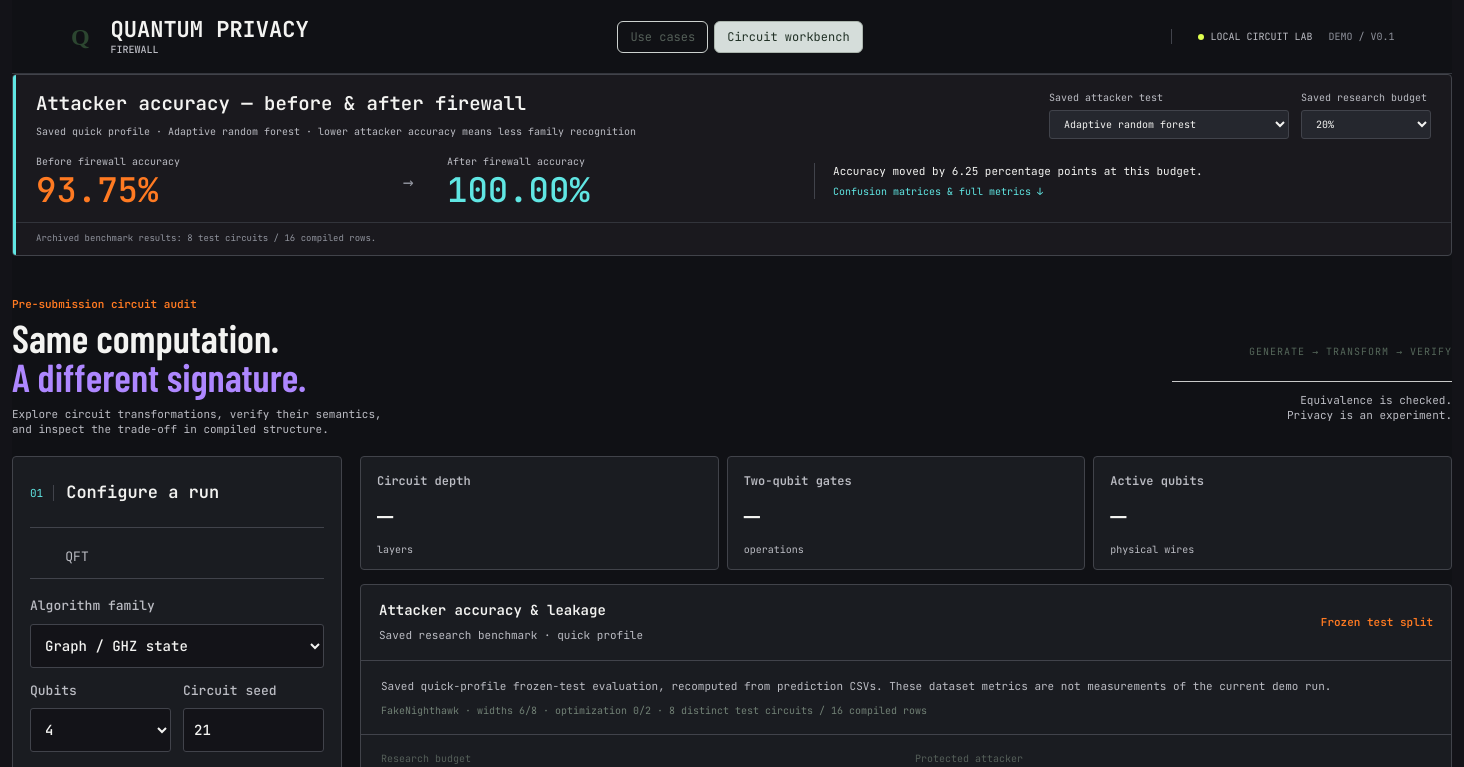
full frontend workflow › switches the circuit family from a demo preset
Click the button "QFT".
click(77, 559)  # box [30,540,124,578]
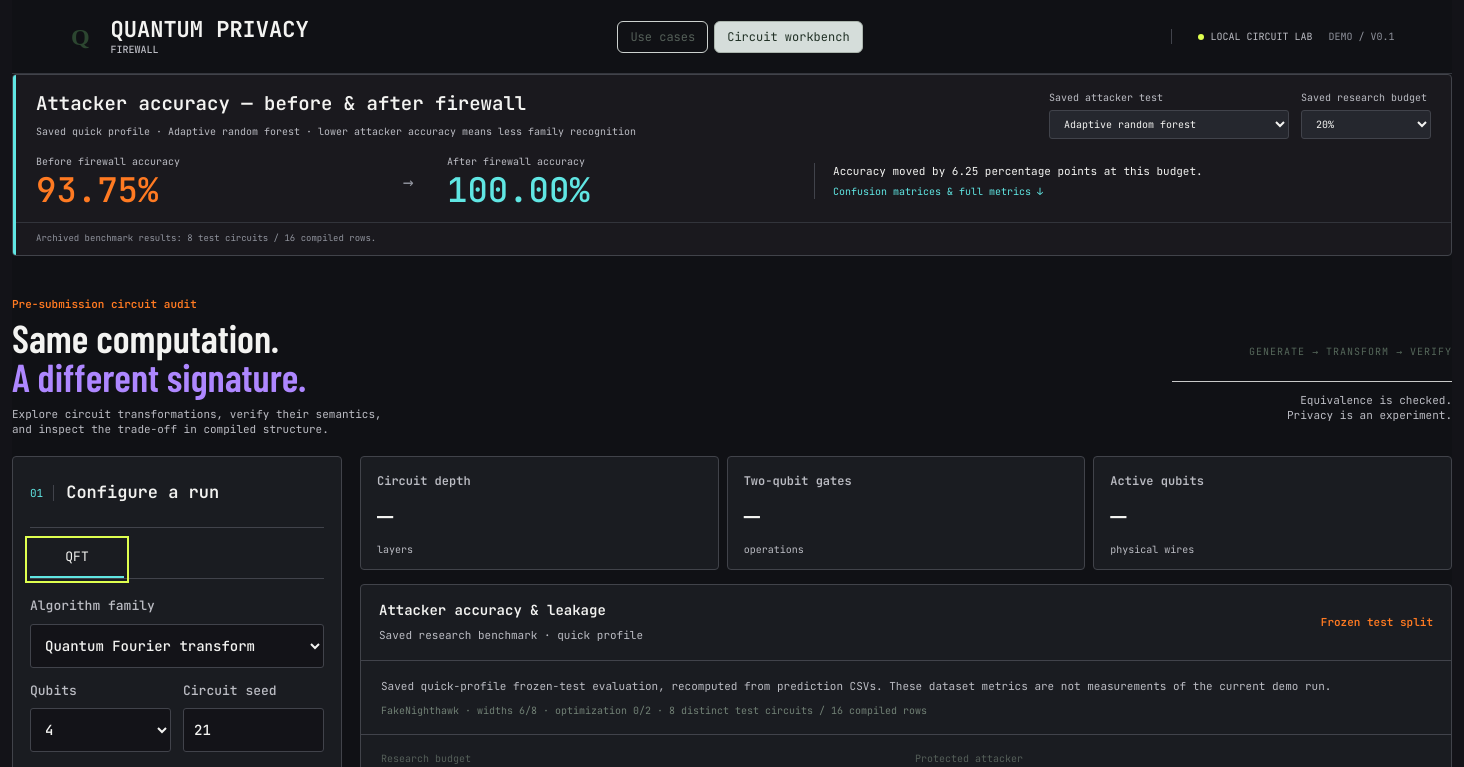
Check: the dropdown labelled "Algorithm family" shows "Quantum Fourier transform", box [30,624,324,668]
